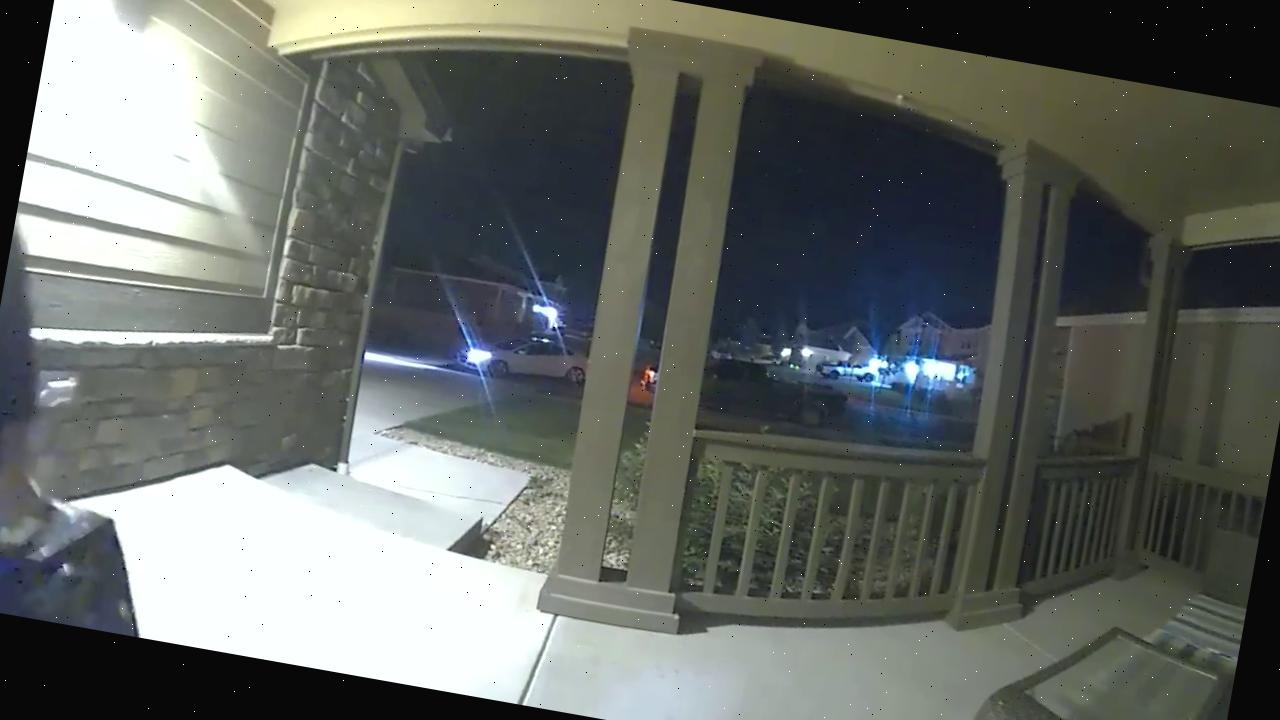suspicion: (701, 340, 850, 439), (434, 310, 594, 398), (810, 346, 886, 390)
